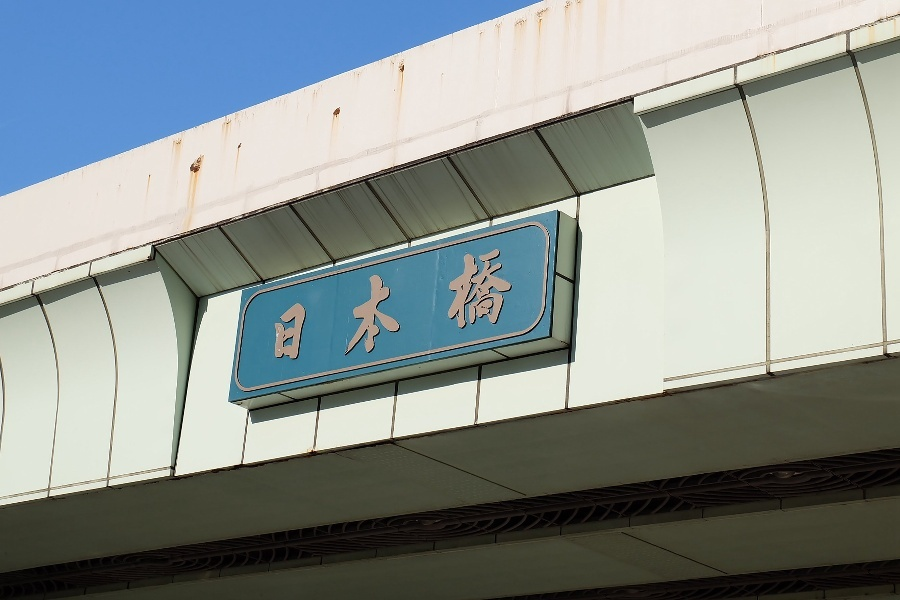text: (497, 243, 513, 366), (289, 243, 304, 366), (305, 243, 320, 366), (321, 243, 336, 366), (337, 243, 352, 366), (353, 243, 368, 366), (369, 243, 384, 366), (385, 243, 400, 366), (401, 243, 416, 366), (417, 243, 432, 366), (433, 243, 448, 366), (449, 243, 464, 366), (465, 243, 480, 366), (481, 243, 496, 366), (275, 243, 288, 366)
